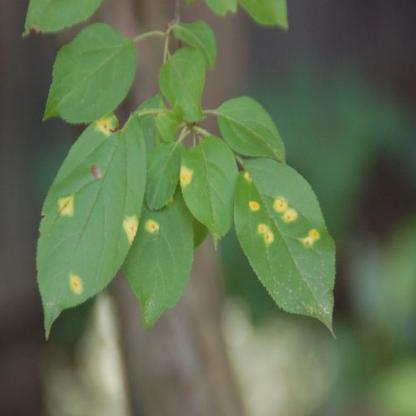apple rust leaf: (34, 97, 147, 361), (232, 140, 343, 357), (110, 142, 198, 346), (176, 132, 242, 255)
